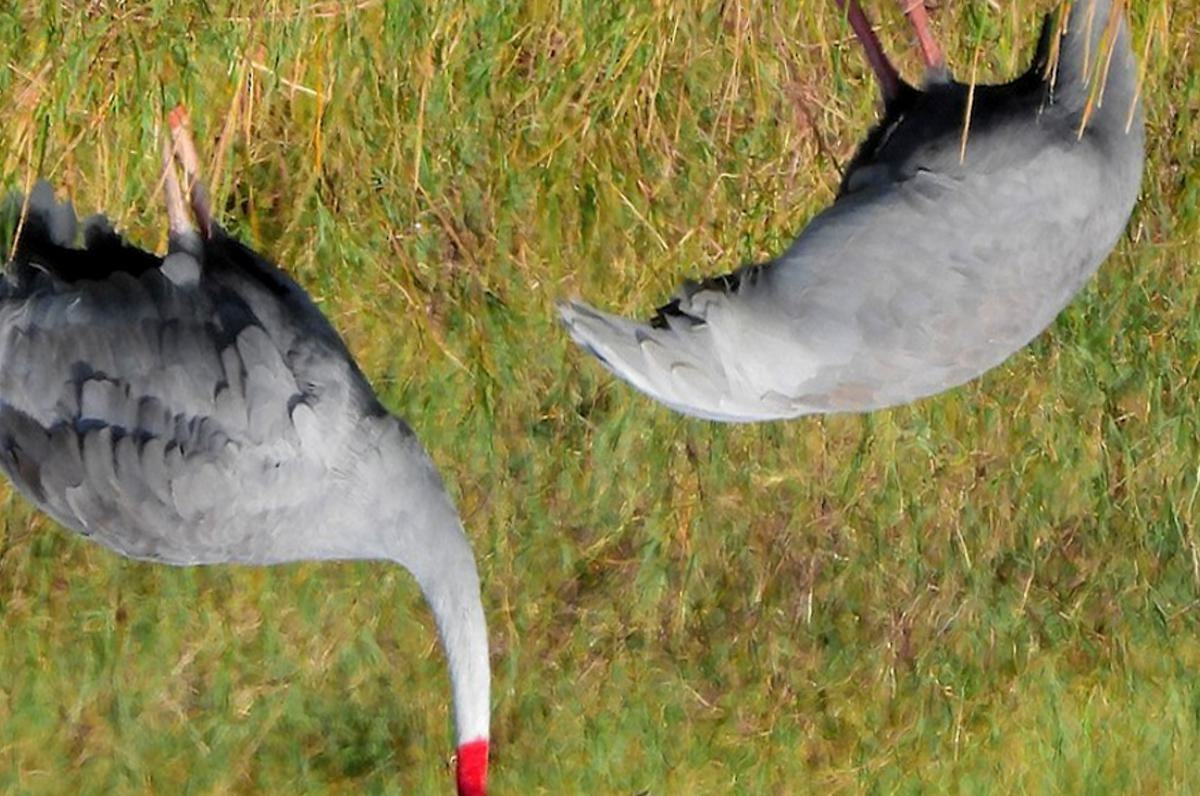crane: (1, 93, 500, 796), (553, 1, 1168, 431)
